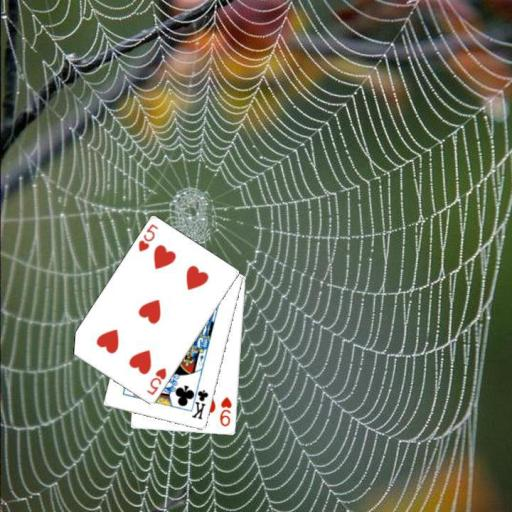5H: (143, 365, 168, 397), (135, 221, 159, 254)
9H: (217, 394, 233, 428)
KC: (187, 382, 210, 421)
